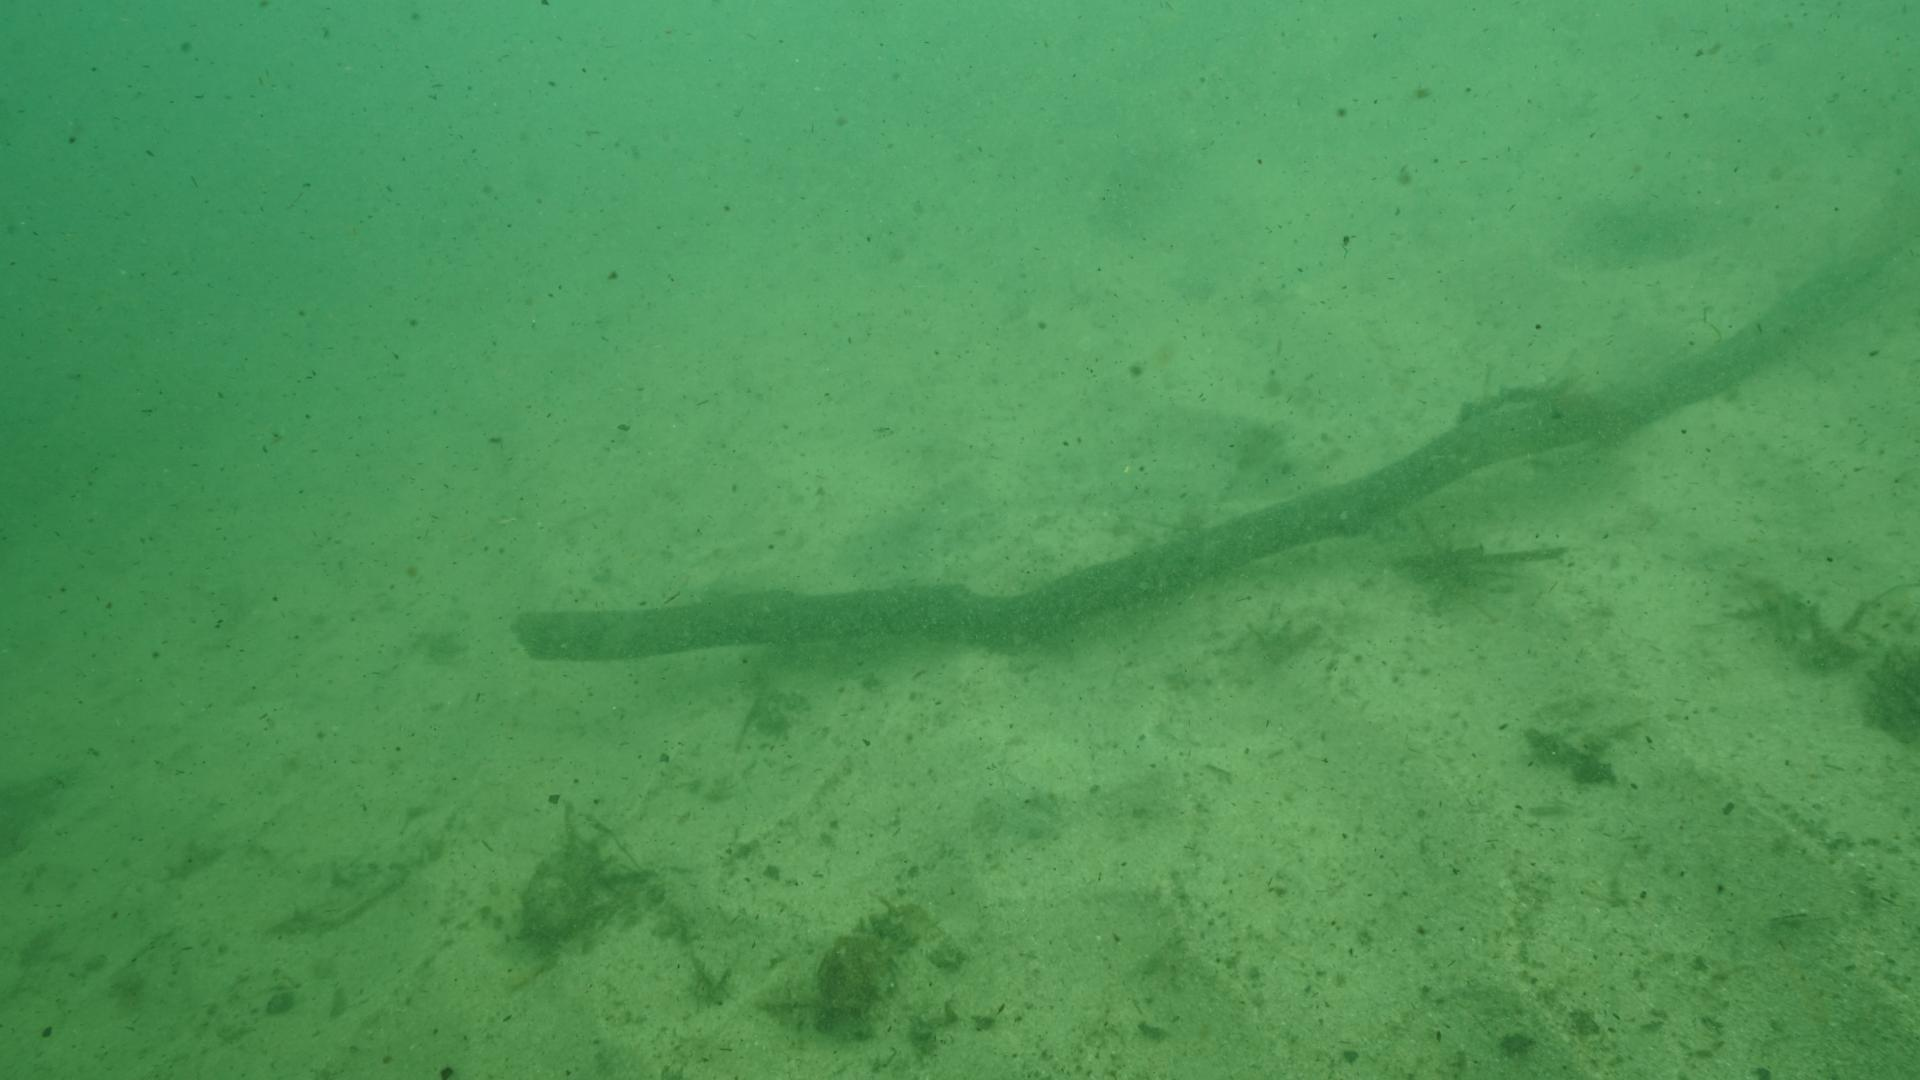wood: (508, 175, 1920, 653)
